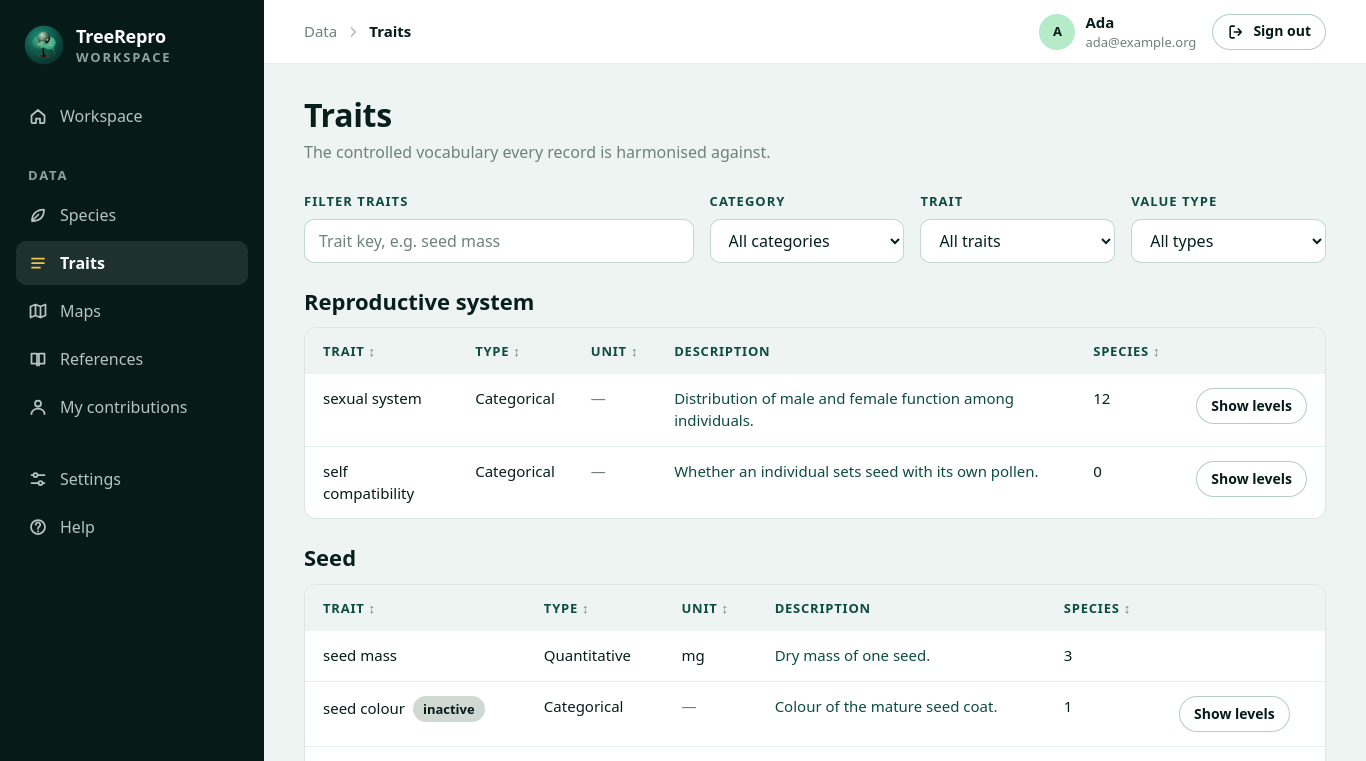
Test: RFC-13 R2, RFC-62 R5 TraitsPage › filters traits by key, case-insensitively, and hides emptied categories
Check: the heading "Traits" is shown, box [304,93,392,136]
Check: the heading "Seed" is shown, box [304,542,356,572]
Type "SEED" into the search field labelled "Filter traits" at (499, 241), box [304,219,694,263]
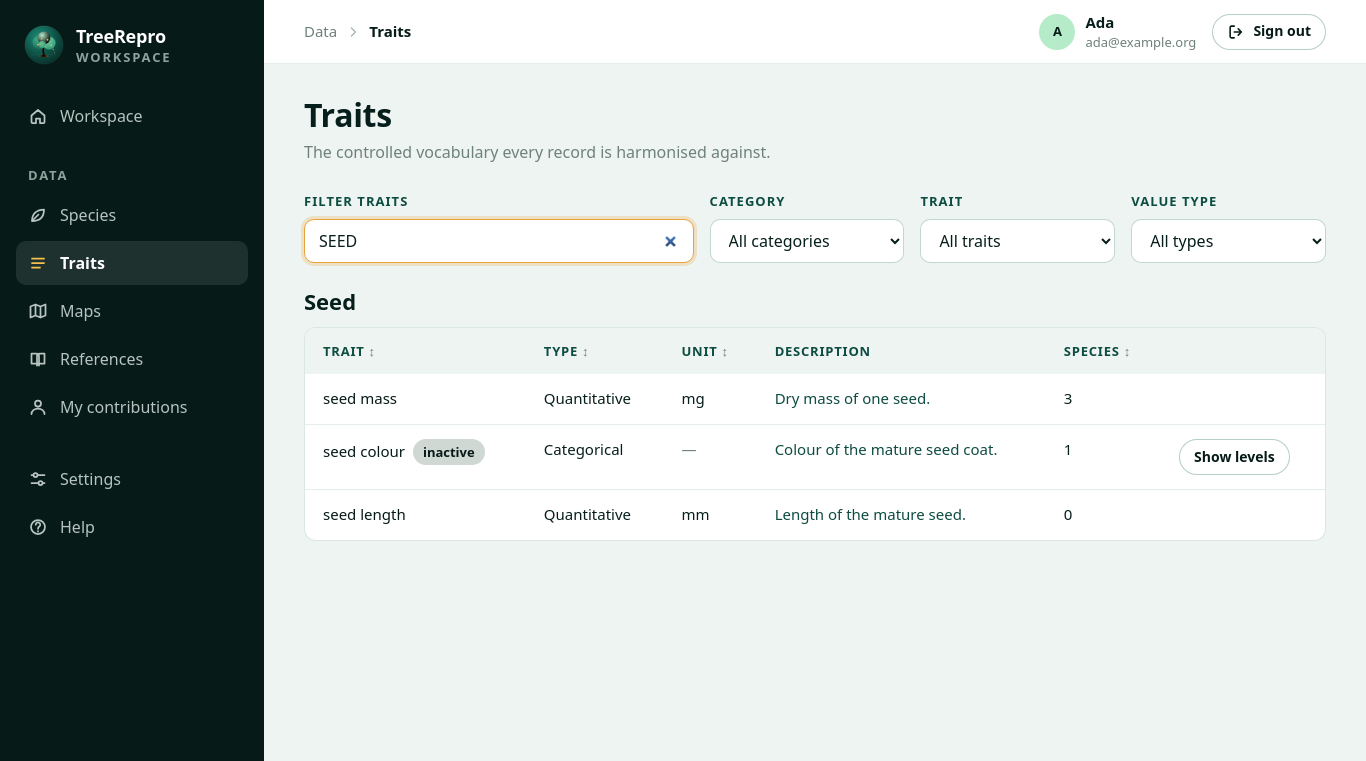
Check: the link "seed mass" is shown, box [323,388,397,410]
Check: the heading "Reproductive system" is gone
Check: the link "sexual system" is gone
Replace the text in the search field labelled "Filter traits" with "sexual system" at (499, 241), box [304,219,694,263]
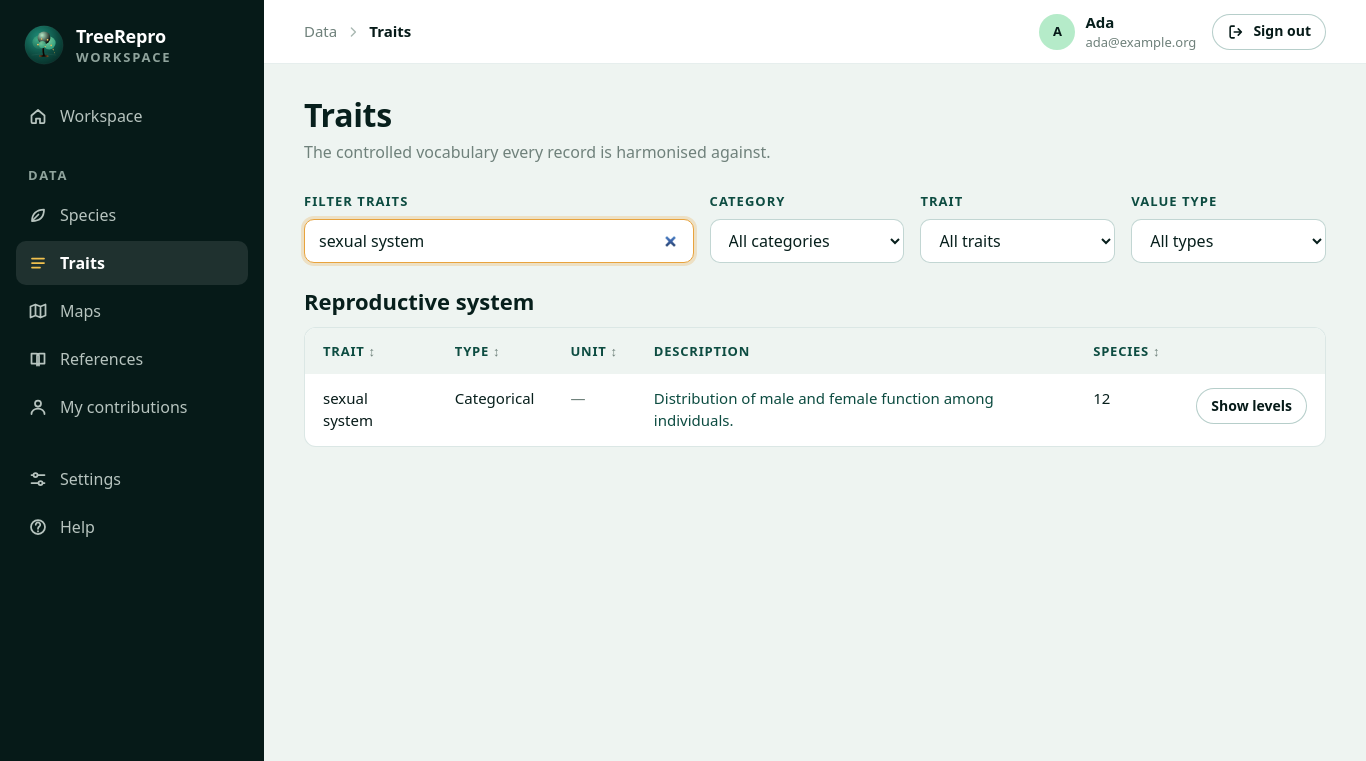
Check: the link "sexual system" is shown, box [323,388,373,430]
Check: the cell "seed" is gone
Type "zz" into the search field labelled "Filter traits" at (499, 241), box [304,219,694,263]
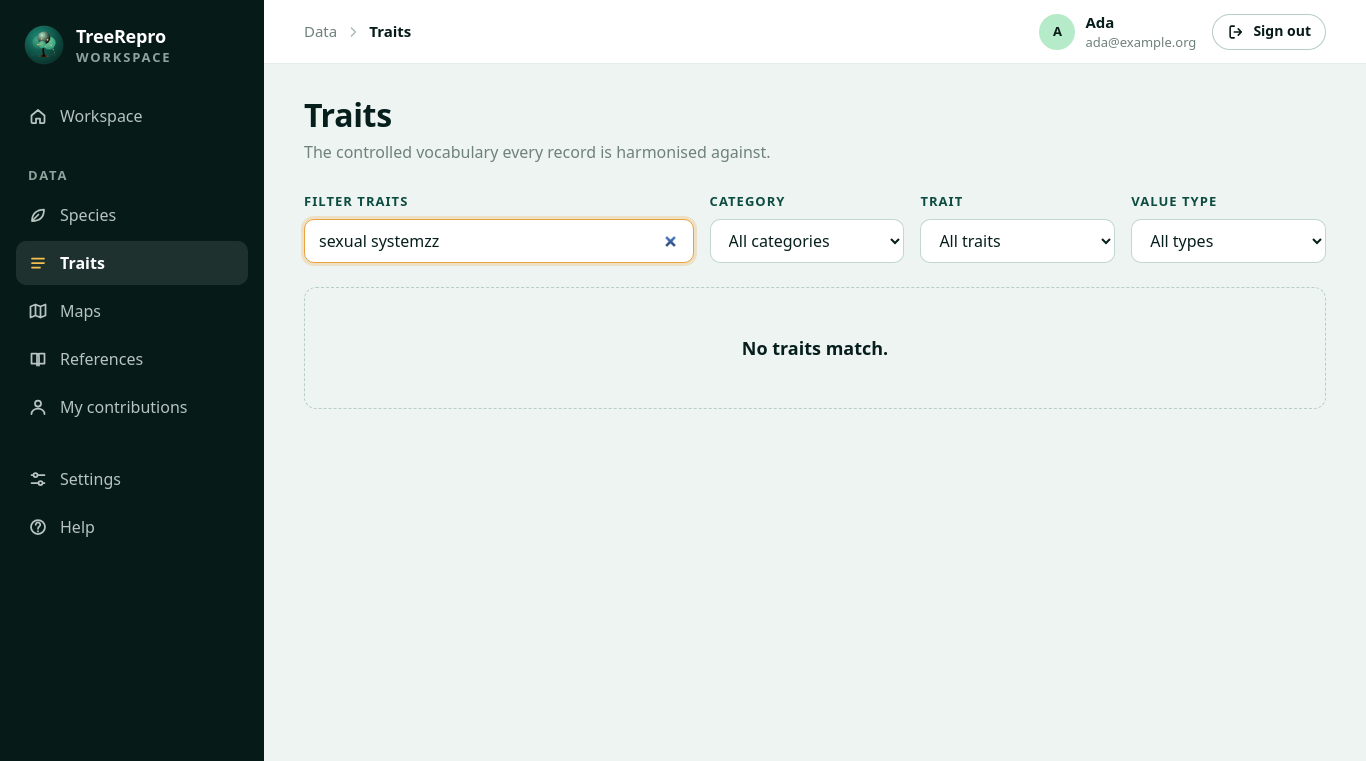
Check: the text "No traits match." is shown, box [742,336,888,360]
Check: the table is gone
